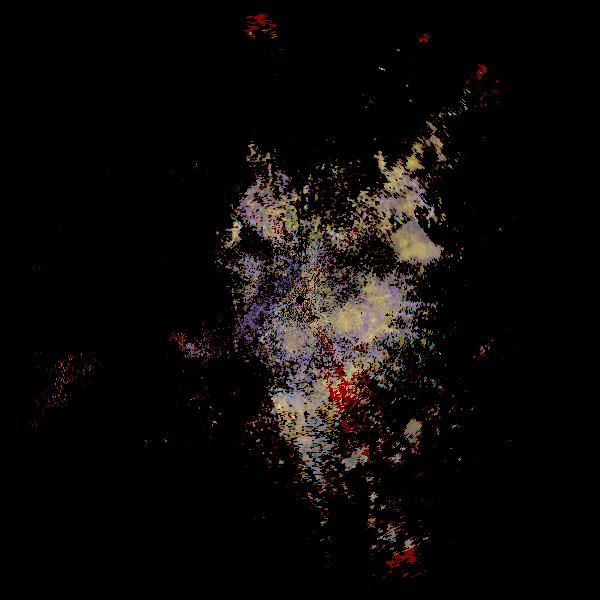roost: (397, 396, 496, 495)
